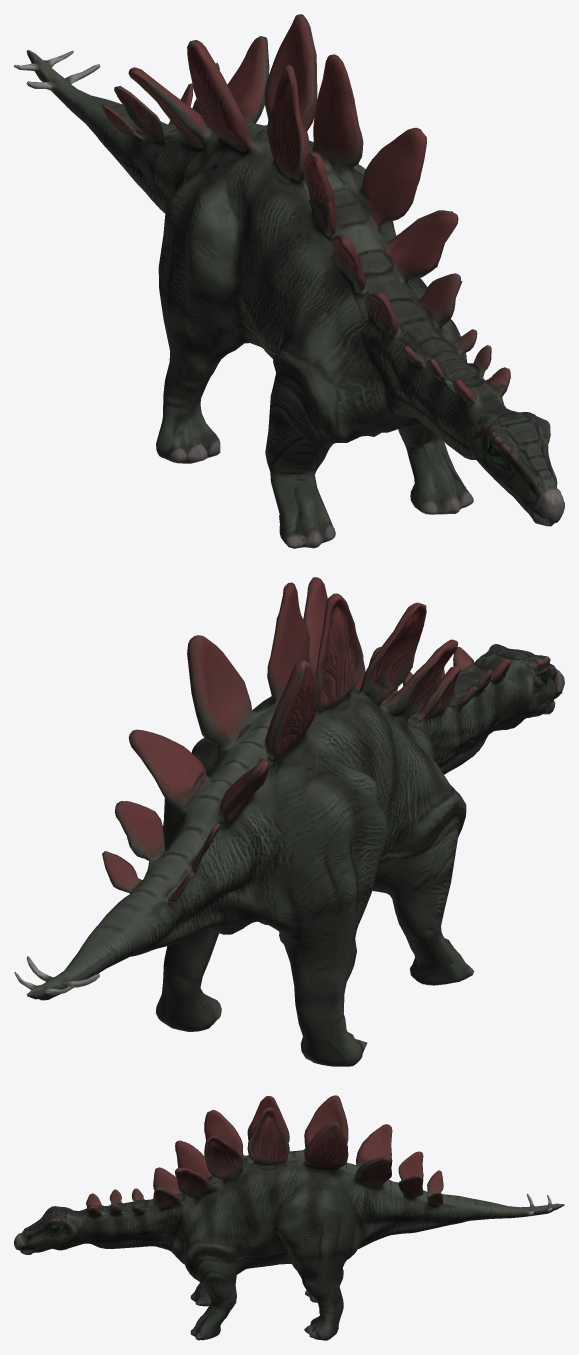
The model's file is estegossauro_parado.glb.
3 renders of one model, top to bottom at view 1: azimuth 30°, elevation 25°; view 2: azimuth 150°, elevation 25°; view 3: azimuth 270°, elevation 25°, orthographic. The views are drawn at different scales.
Visible parts, largest first — view 1: Object_4_fixo; view 2: Object_4_fixo; view 3: Object_4_fixo.
Boxes of the visible parts, bbox=[...] form: Object_4_fixo: bbox=[14, 14, 564, 548]; Object_4_fixo: bbox=[14, 577, 564, 1066]; Object_4_fixo: bbox=[14, 1095, 564, 1340].
Bounding box in the file's own units: 1.57 × 3.14 × 7.21.
1 material, 1 textured.
